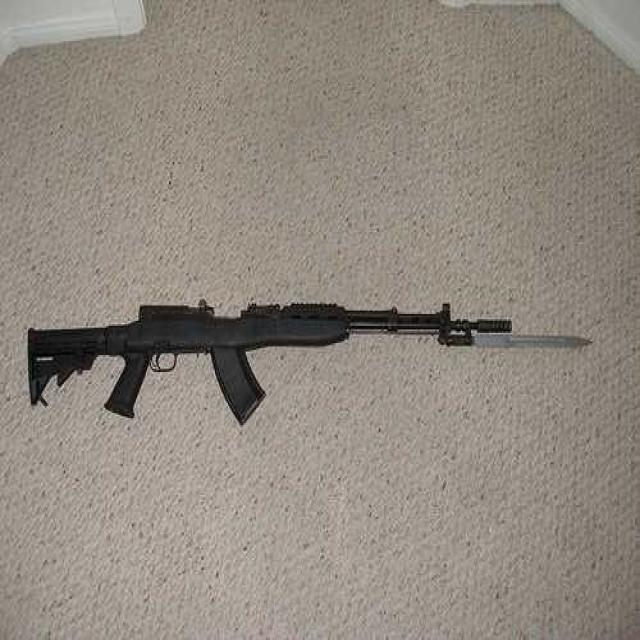heavyweapon: (8, 276, 530, 482)
